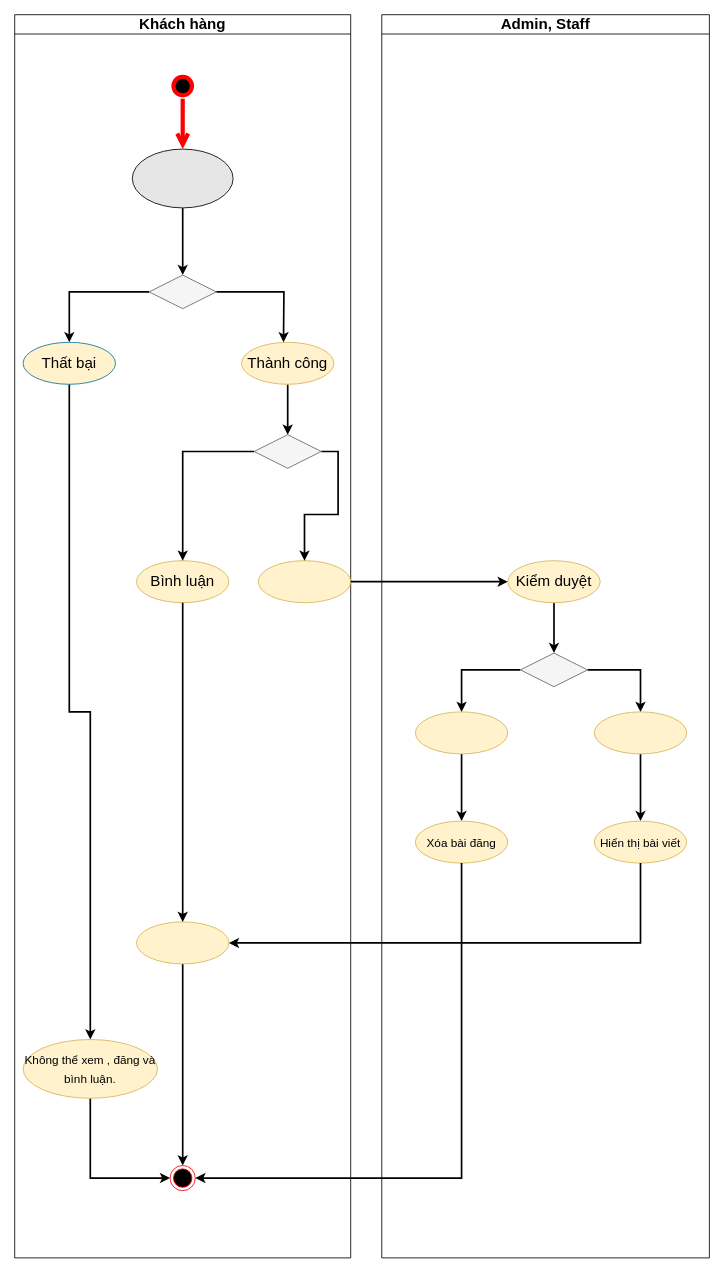
The diagram is 724 pixels wide and 1273 high, and some of its shapes have lost their labels. Each missing label, with the centre of its shape:
"Bài viết" belongs at point (182, 942).
"Duyệt" belongs at point (640, 732).
"Hủy" belongs at point (461, 732).
"Đăng bài" belongs at point (304, 581).
"Đăng nhập" belongs at point (182, 178).
